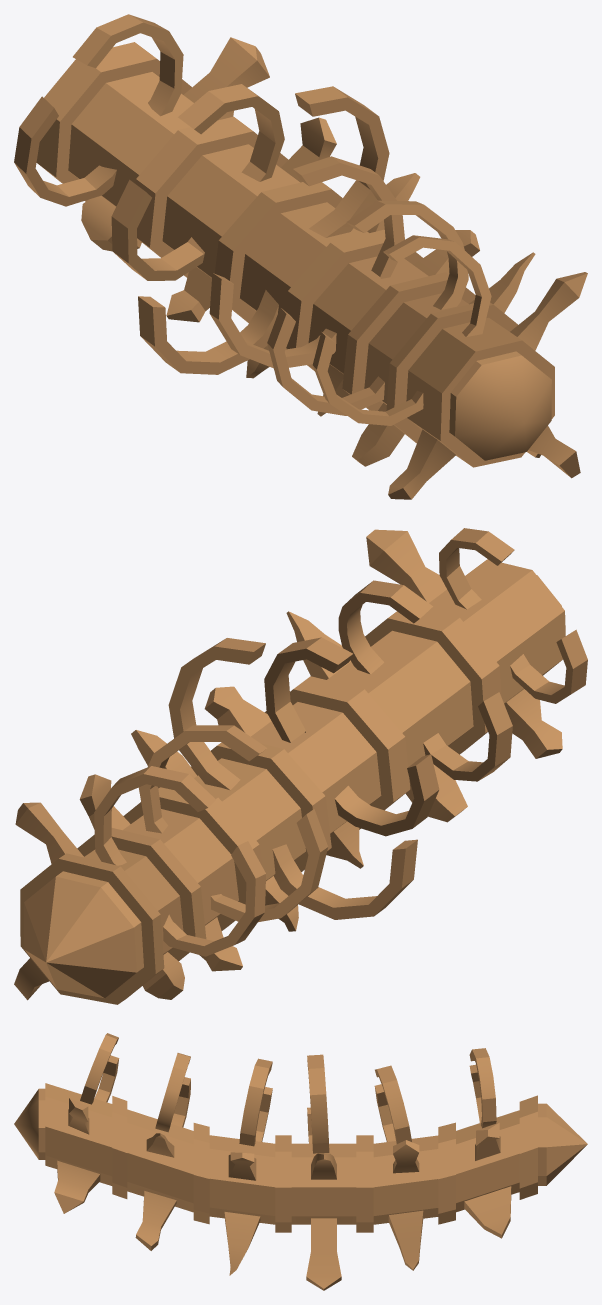
Rendered from bone_1_saglam.fbx.
3 renders of one model, top to bottom at view 1: azimuth 30°, elevation 25°; view 2: azimuth 150°, elevation 25°; view 3: azimuth 270°, elevation 25°, orthographic. The views are drawn at different scales.
Parts seen in each view (by area): view 1: bone_clean; view 2: bone_clean; view 3: bone_clean.
Boxes of the visible parts, x1,y1,x2,y2 form: bone_clean: (14, 14, 587, 499); bone_clean: (14, 528, 587, 1004); bone_clean: (14, 1033, 587, 1290).
Size of the model in its own units: 0.6187 by 1.69 by 0.6423.
